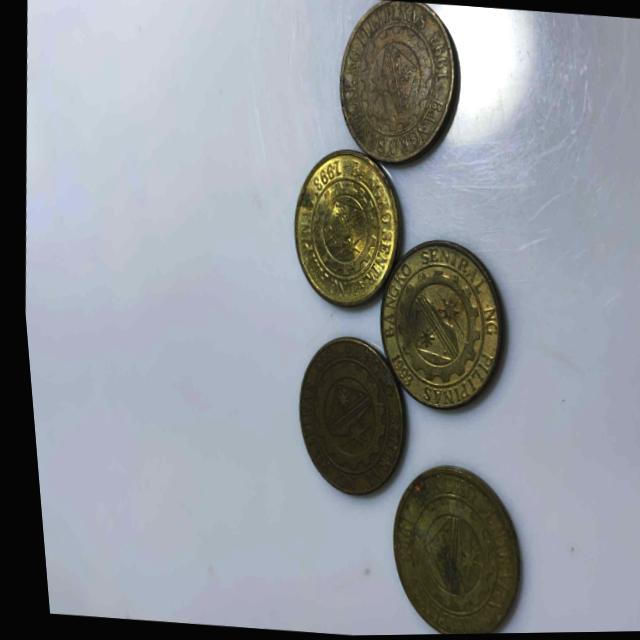25Cent_Old_Back: (362, 233, 510, 426), (374, 463, 514, 636), (330, 6, 463, 163), (281, 333, 402, 497), (281, 146, 402, 307)
